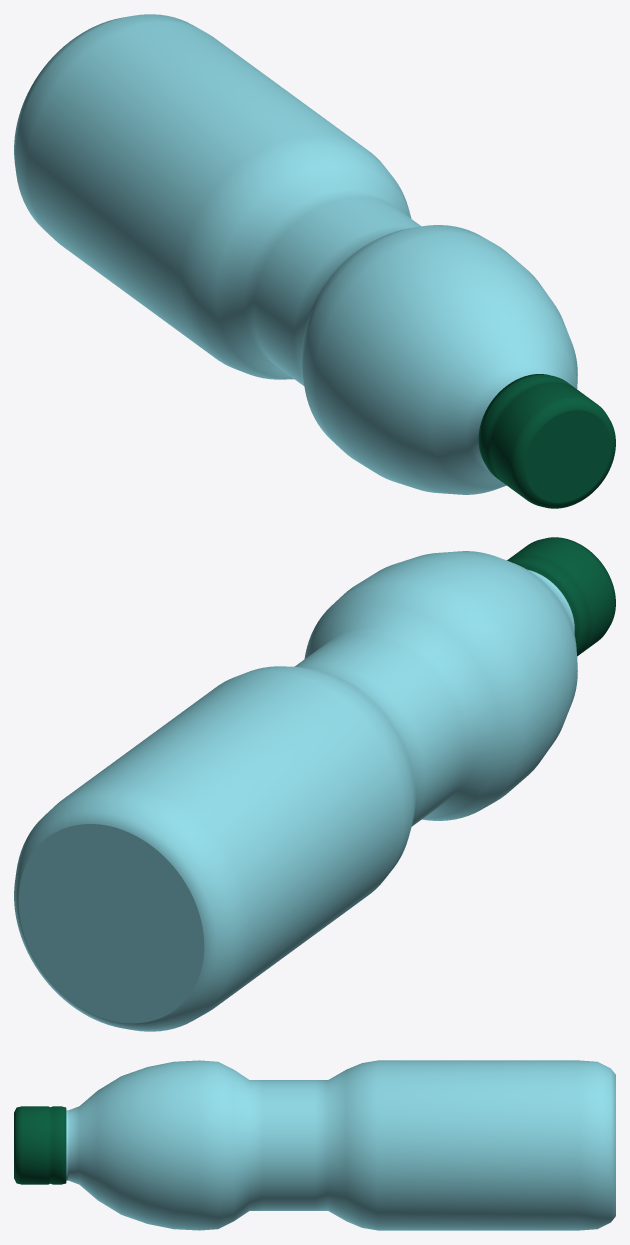
Rendered from Flasche_500ml.obj.
The picture shows the model from 3 angles, top to bottom: view 1: azimuth 30°, elevation 25°; view 2: azimuth 150°, elevation 25°; view 3: azimuth 270°, elevation 25°; orthographic projection. The views are drawn at different scales.
Parts seen in each view (by area): view 1: Plastikflasche_500ml; view 2: Plastikflasche_500ml; view 3: Plastikflasche_500ml.
Boxes of the visible parts, <box> form: Plastikflasche_500ml: <box>14,14,615,508</box>; Plastikflasche_500ml: <box>14,537,615,1031</box>; Plastikflasche_500ml: <box>14,1060,615,1230</box>.
Bounding box in the file's own units: 0.065 × 0.065 × 0.23.
